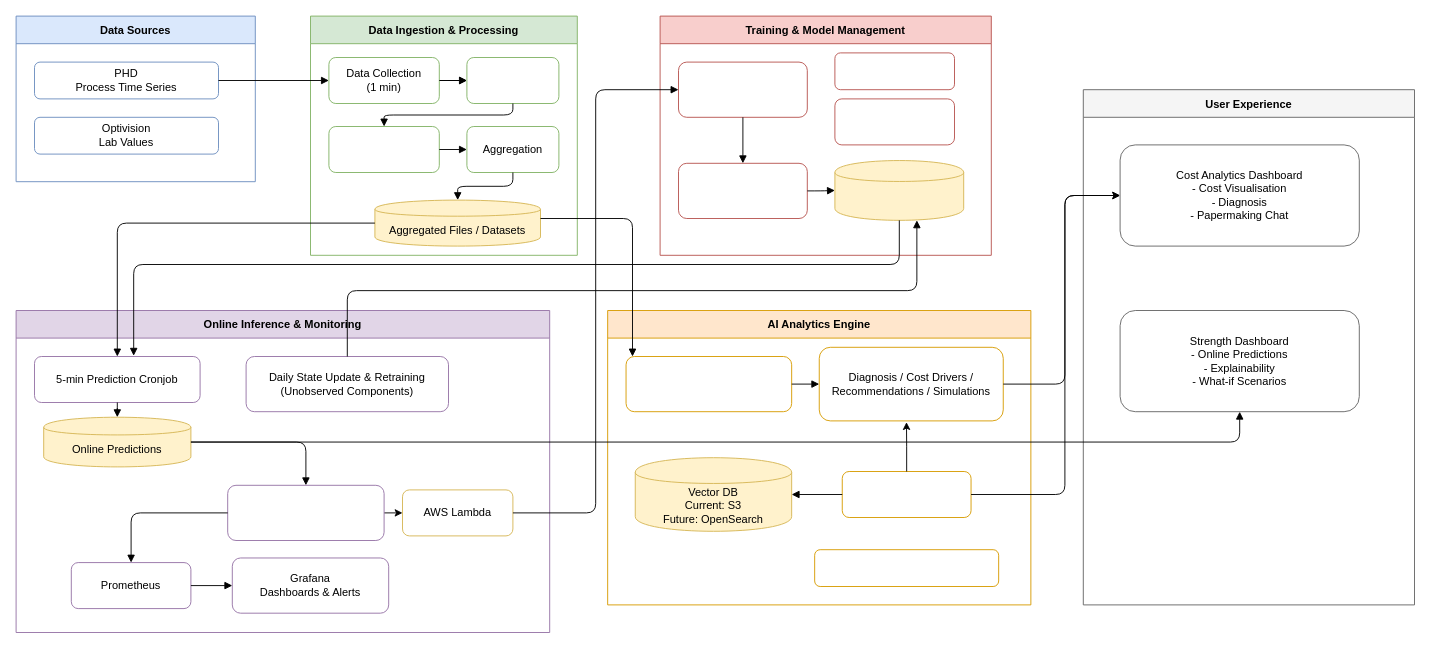
Image size: 1431x649. Some labels were removed from this diagram. Each missing label, with the centre of its shape:
AWS SageMaker Training Jobs: the point at 742,89
Cleaning: the point at 512,80
Cost / Consumption Models: the point at 894,121
Cost Analytics Engine: the point at 708,384
Merge: the point at 383,149
Metrics / Performance Cronjobs: the point at 305,512
MLflow Tracking & Registry: the point at 742,190
RAG System: the point at 906,494
S3 Model Repository (Production Models): the point at 899,190
Strength Models: the point at 894,71
Web Services / APIs: the point at 906,567
